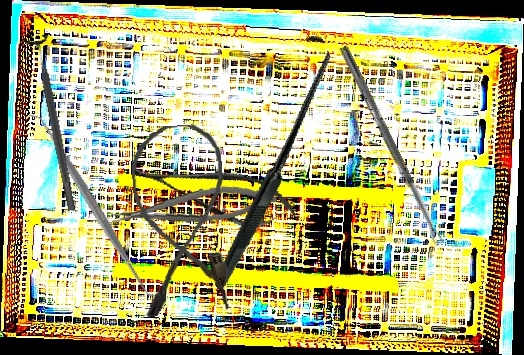Cannula: (129, 122, 232, 318)
Fixation Ring: (20, 33, 87, 214)
Hook Surgical: (137, 32, 400, 290)
Micro Scissor: (128, 144, 302, 240)
Needle Holder: (109, 181, 279, 231)
Spatula Surgical: (25, 104, 160, 306)
Surgical Spoon: (338, 44, 444, 248)
